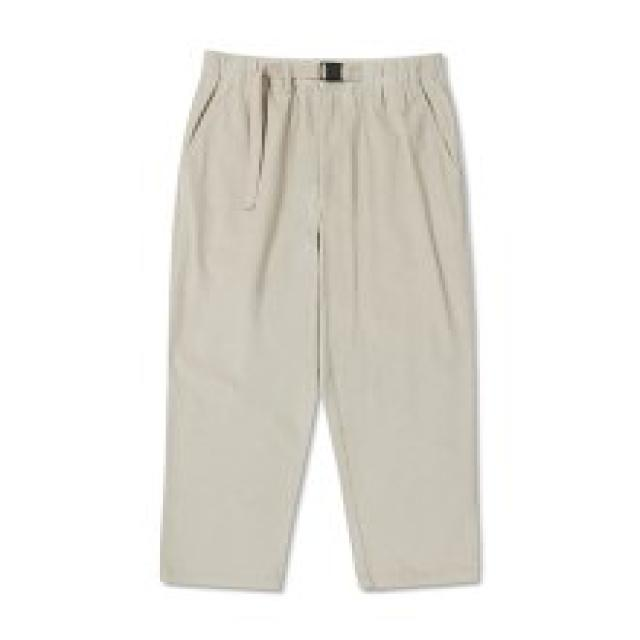long-pants: (150, 46, 487, 594)
